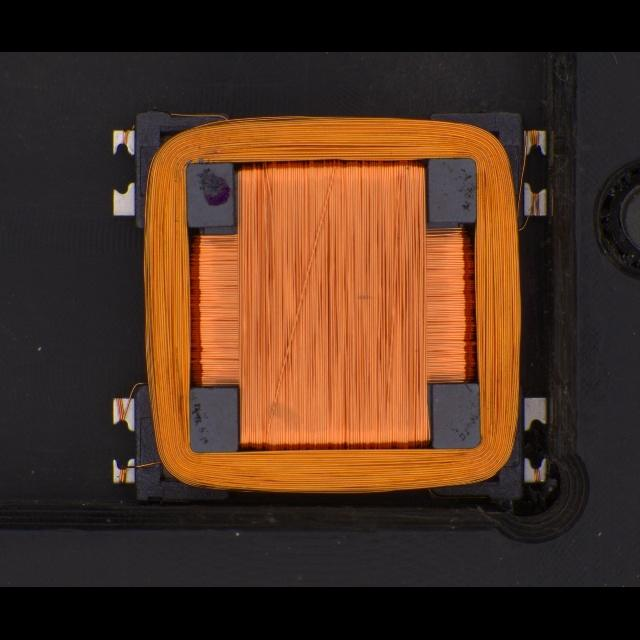Winding_Z: (128, 109, 526, 499)
